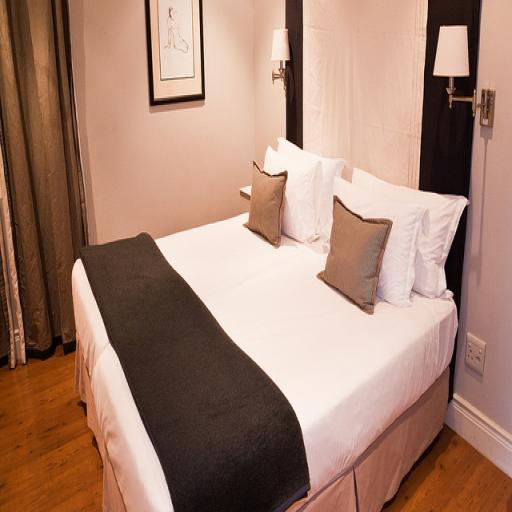bed: (55, 99, 502, 512)
